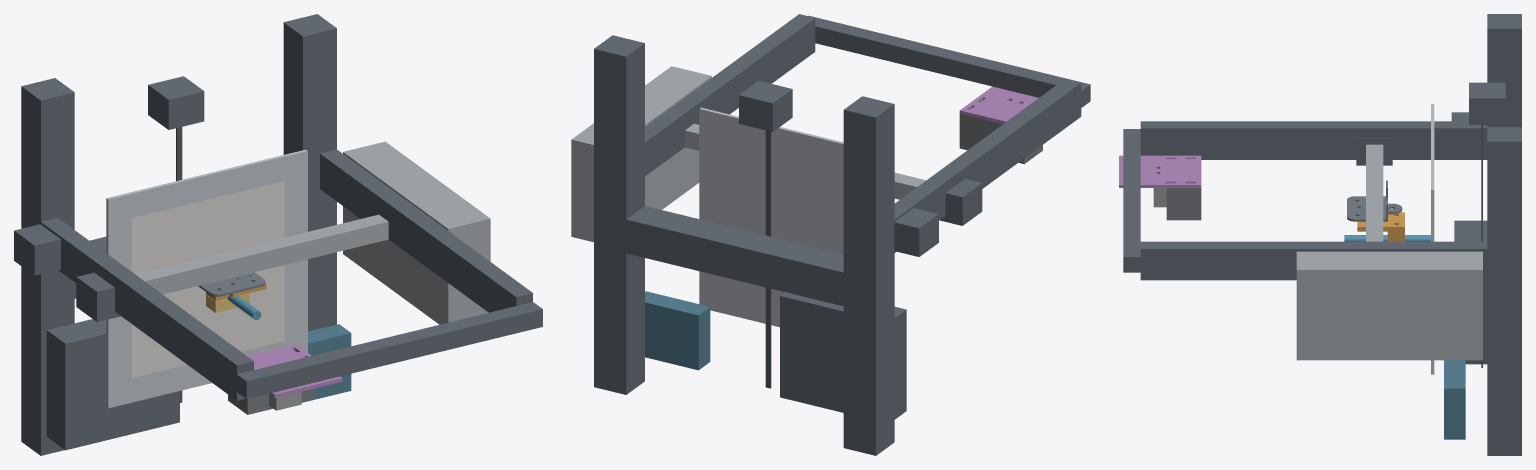
Rendered from plotter.glb.
3 renders of one model, left to right at view 1: azimuth 30°, elevation 25°; view 2: azimuth 150°, elevation 25°; view 3: azimuth 270°, elevation 25°, orthographic. The views are drawn at different scales.
Parts seen in each view (by area): view 1: paper_180mm_square, REFERENCE_ENVELOPE_bed_235x235, REFERENCE_ENVELOPE_left_base, REFERENCE_ENVELOPE_right_base, REFERENCE_ENVELOPE_enclosed_PSU, REFERENCE_ENVELOPE_right_upright, REFERENCE_ENVELOPE_controller_enclosure, REFERENCE_ENVELOPE_left_upright, REFERENCE_ENVELOPE_top, REFERENCE_ENVELOPE_X_rail, REFERENCE_ENVELOPE_Y_motor, REFERENCE_ENVELOPE_Z_motor (+6 smaller); view 2: REFERENCE_ENVELOPE_bed_235x235, REFERENCE_ENVELOPE_left_base, REFERENCE_ENVELOPE_right_base, REFERENCE_ENVELOPE_central_base, REFERENCE_ENVELOPE_controller_enclosure, REFERENCE_ENVELOPE_left_upright, REFERENCE_ENVELOPE_right_upright, REFERENCE_ENVELOPE_enclosed_PSU, REFERENCE_ENVELOPE_top, REFERENCE_ENVELOPE_LCD, REFERENCE_ENVELOPE_Y_motor, REFERENCE_ENVELOPE_Z_motor (+5 smaller); view 3: REFERENCE_ENVELOPE_enclosed_PSU, REFERENCE_ENVELOPE_left_upright, REFERENCE_ENVELOPE_right_base, REFERENCE_ENVELOPE_right_upright, REFERENCE_ENVELOPE_left_base, REFERENCE_ENVELOPE_top, hotend_parking_plate, REFERENCE_ENVELOPE_X_rail, REFERENCE_ENVELOPE_LCD, REFERENCE_ENVELOPE_Y_motor, REFERENCE_ENVELOPE_controller_enclosure, REFERENCE_ENVELOPE_parked_fans_and_shroud (+5 smaller).
Part boxes in pixels (x1,y1,x2,y2): paper_180mm_square: [131, 181, 284, 377]; REFERENCE_ENVELOPE_bed_235x235: [106, 149, 307, 408]; REFERENCE_ENVELOPE_left_base: [21, 78, 74, 455]; REFERENCE_ENVELOPE_right_base: [283, 14, 336, 331]; REFERENCE_ENVELOPE_enclosed_PSU: [343, 141, 490, 324]; REFERENCE_ENVELOPE_right_upright: [320, 149, 532, 312]; REFERENCE_ENVELOPE_controller_enclosure: [46, 319, 179, 450]; REFERENCE_ENVELOPE_left_upright: [41, 217, 253, 400]; REFERENCE_ENVELOPE_top: [237, 302, 542, 398]; REFERENCE_ENVELOPE_X_rail: [135, 214, 388, 294]; REFERENCE_ENVELOPE_Y_motor: [148, 76, 204, 129]; REFERENCE_ENVELOPE_Z_motor: [14, 224, 60, 275]; REFERENCE_ENVELOPE_bed_235x235: [699, 107, 843, 327]; REFERENCE_ENVELOPE_left_base: [843, 96, 894, 455]; REFERENCE_ENVELOPE_right_base: [594, 35, 644, 394]; REFERENCE_ENVELOPE_central_base: [594, 206, 894, 313]; REFERENCE_ENVELOPE_controller_enclosure: [780, 292, 906, 419]; REFERENCE_ENVELOPE_left_upright: [894, 79, 1081, 252]; REFERENCE_ENVELOPE_right_upright: [645, 14, 815, 176]; REFERENCE_ENVELOPE_enclosed_PSU: [571, 66, 711, 242]; REFERENCE_ENVELOPE_top: [808, 15, 1090, 107]; REFERENCE_ENVELOPE_LCD: [645, 291, 710, 370]; REFERENCE_ENVELOPE_Y_motor: [739, 80, 792, 131]; REFERENCE_ENVELOPE_Z_motor: [894, 208, 938, 256]; REFERENCE_ENVELOPE_enclosed_PSU: [1296, 251, 1482, 360]; REFERENCE_ENVELOPE_left_upright: [1140, 121, 1487, 159]; REFERENCE_ENVELOPE_right_base: [1487, 127, 1521, 455]; REFERENCE_ENVELOPE_right_upright: [1140, 241, 1487, 280]; REFERENCE_ENVELOPE_left_base: [1487, 14, 1521, 127]; REFERENCE_ENVELOPE_top: [1123, 129, 1140, 272]; hotend_parking_plate: [1119, 155, 1201, 187]; REFERENCE_ENVELOPE_X_rail: [1366, 144, 1383, 241]; REFERENCE_ENVELOPE_LCD: [1444, 360, 1465, 439]; REFERENCE_ENVELOPE_Y_motor: [1469, 82, 1505, 124]; REFERENCE_ENVELOPE_controller_enclosure: [1454, 220, 1487, 364]; REFERENCE_ENVELOPE_parked_fans_and_shroud: [1166, 188, 1201, 220].
Size of the model in its own units: 434 by 400 by 465.
